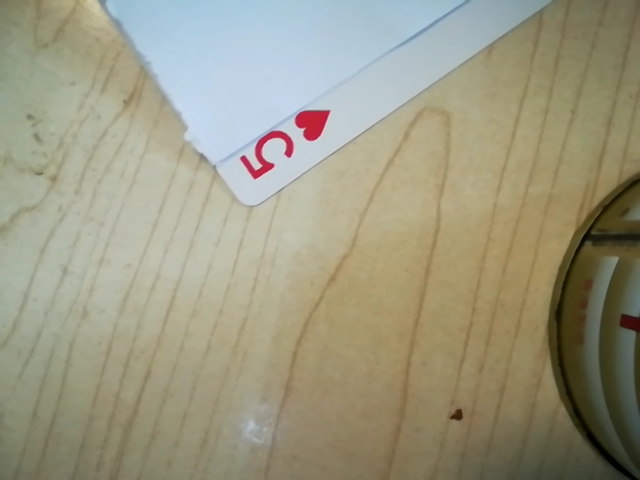hx 5: (234, 107, 331, 186)
